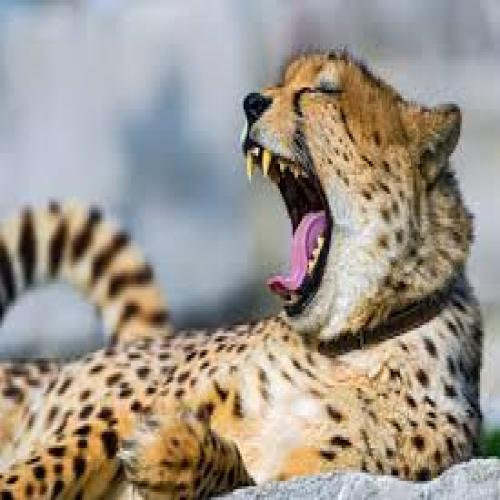cheetah-endangered: (9, 45, 482, 476)
